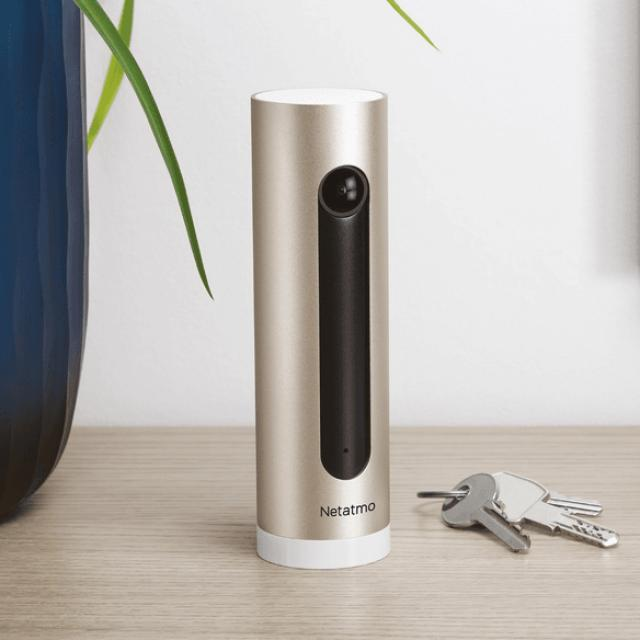hidden camera: (314, 163, 377, 218)
